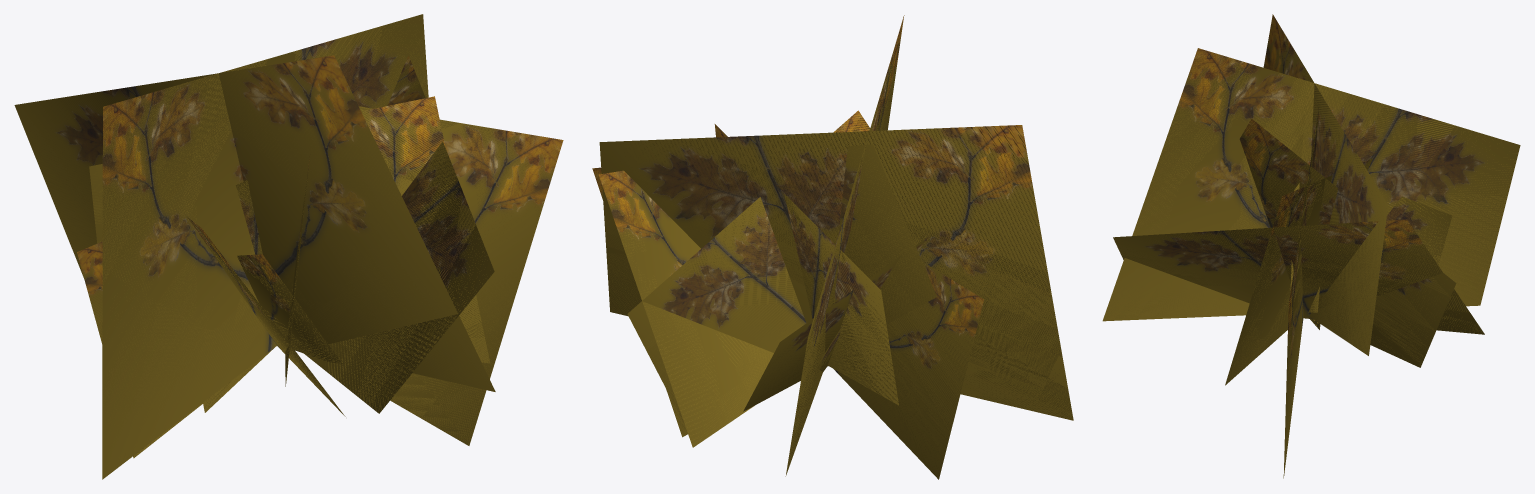
Rendered from bush 4.FBX.
3 renders of one model, left to right at view 1: azimuth 30°, elevation 25°; view 2: azimuth 150°, elevation 25°; view 3: azimuth 270°, elevation 25°, orthographic. The views are drawn at different scales.
Parts seen in each view (by area): view 1: bush 4; view 2: bush 4; view 3: bush 4.
Part boxes in pixels (x1=…): bush 4: x1=14, y1=14, x2=563, y2=479; bush 4: x1=592, y1=15, x2=1073, y2=479; bush 4: x1=1102, y1=14, x2=1520, y2=478.
Bounding box in the file's own units: 56571 × 51804 × 54314.
